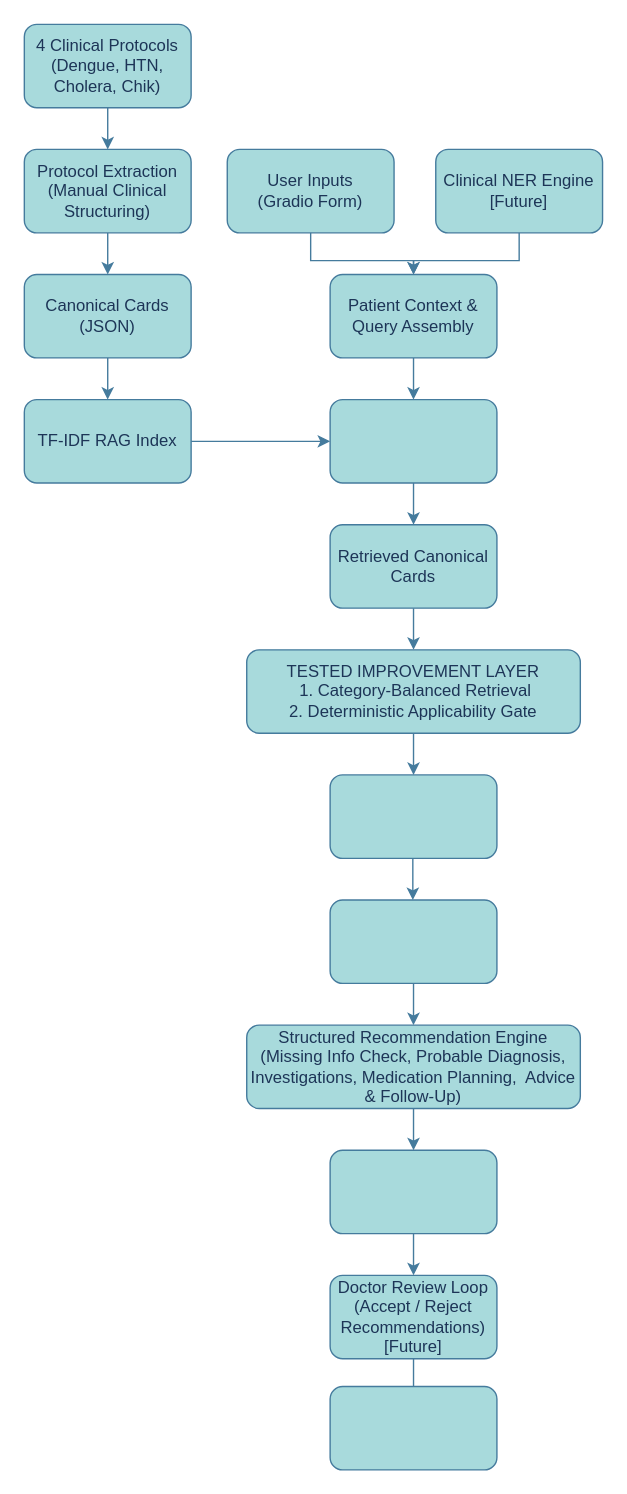
The diagram is 627 pixels wide and 1494 high, and some of its shapes have lost their labels. The shapes that lost their labels are listed below. From the top down, each one's centre as x and y in pixels, then its label:
At point (413, 440): "Dynamic Similarity Search".
At point (413, 816): "Grounded LLM Prompt (Compact JSON + Patient Context)".
At point (413, 941): "Local LLM / API Model".
At point (413, 1191): "Gradio Interactive UI".
At point (413, 1427): "Prescription Assembly (Final Signed Medical Order) [Future]".
